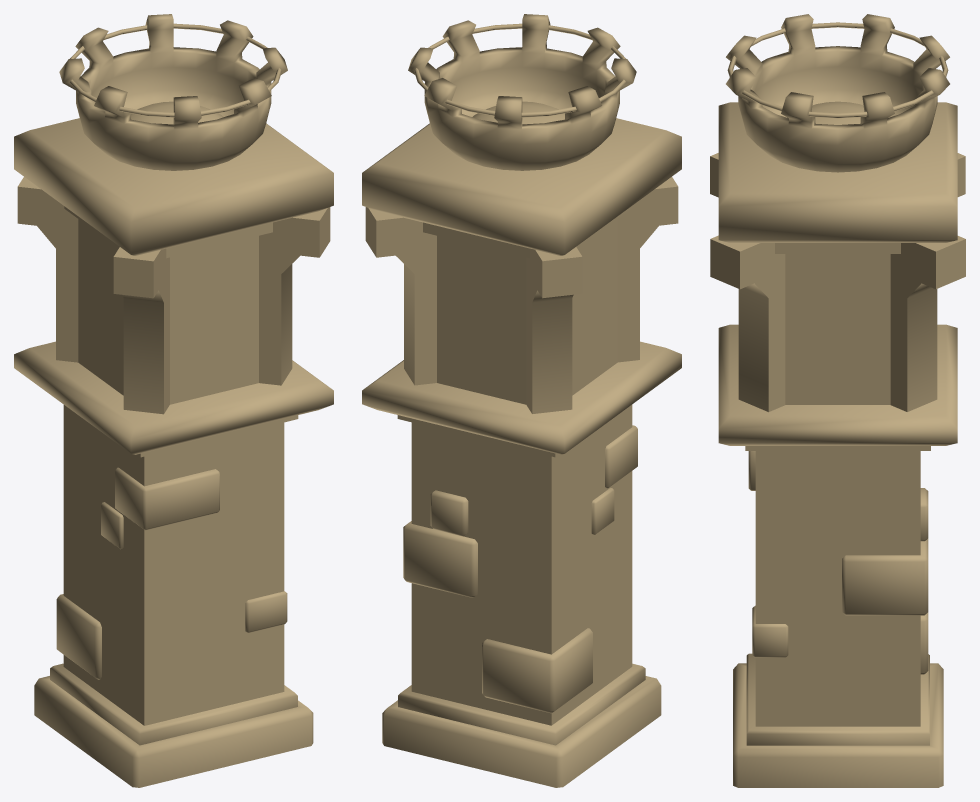
Rendered from pillar_mesh.fbx.
3 views of the same model, side by side, from view 1: azimuth 30°, elevation 25°; view 2: azimuth 150°, elevation 25°; view 3: azimuth 270°, elevation 25° (orthographic). The views are drawn at different scales.
Parts seen in each view (by area): view 1: pillar_mesh; view 2: pillar_mesh; view 3: pillar_mesh.
Part boxes in pixels (<box>): pillar_mesh: <box>14,14,333,787</box>; pillar_mesh: <box>362,14,681,787</box>; pillar_mesh: <box>710,14,965,787</box>.
Bounding box in the file's own units: 1.93 × 5.7 × 1.93.
